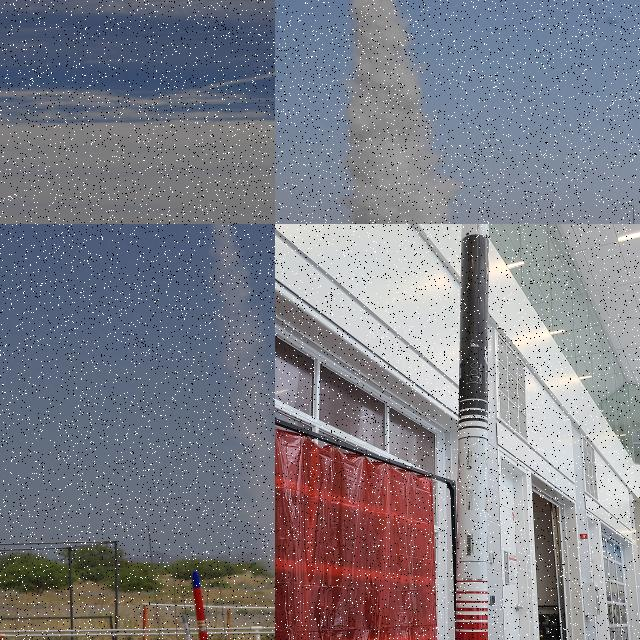Rocket: (455, 224, 489, 640), (191, 570, 222, 640), (181, 612, 203, 640)
